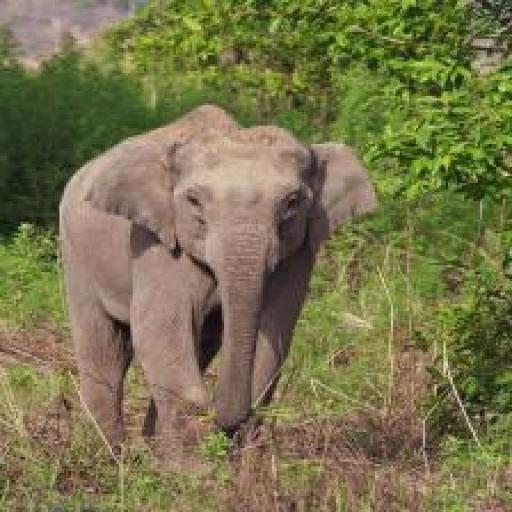Elephant: (52, 100, 388, 484)
